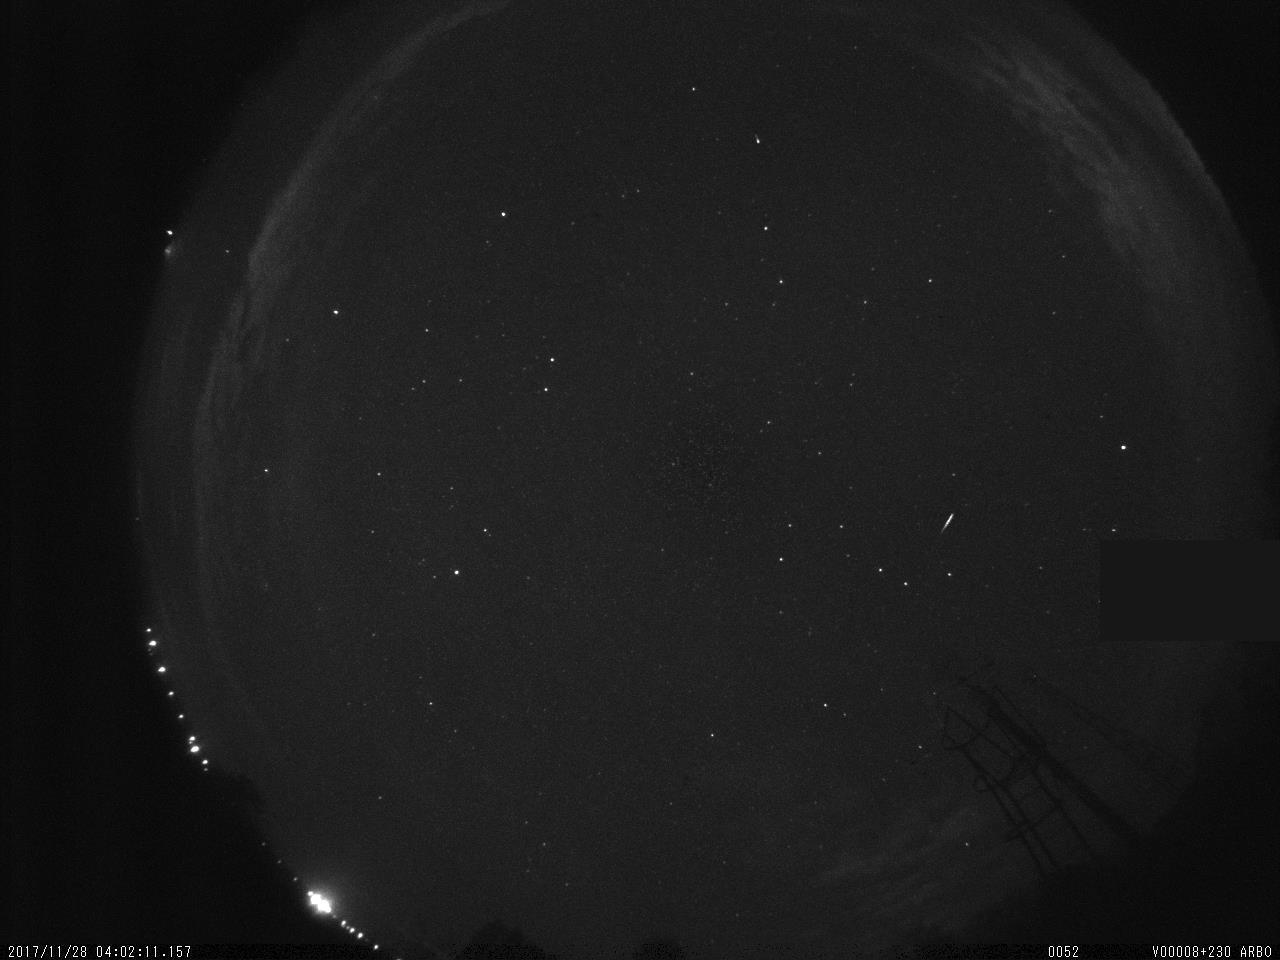meteor: (932, 505, 961, 546)
